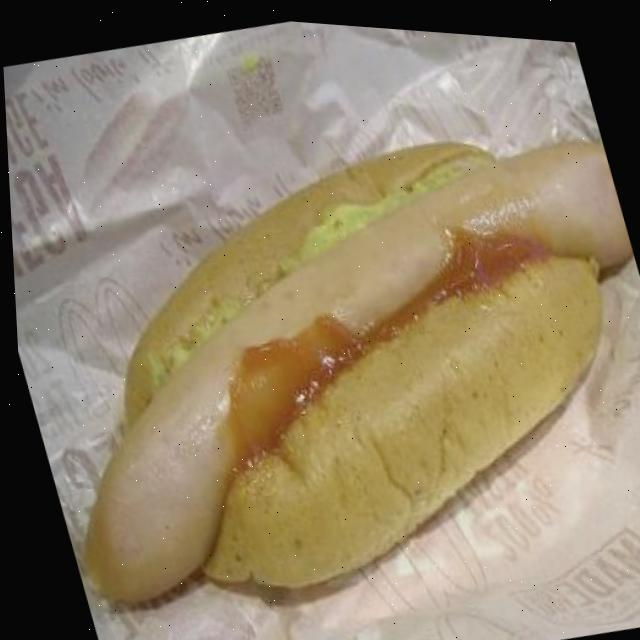汉堡快餐: (2, 47, 640, 640)
